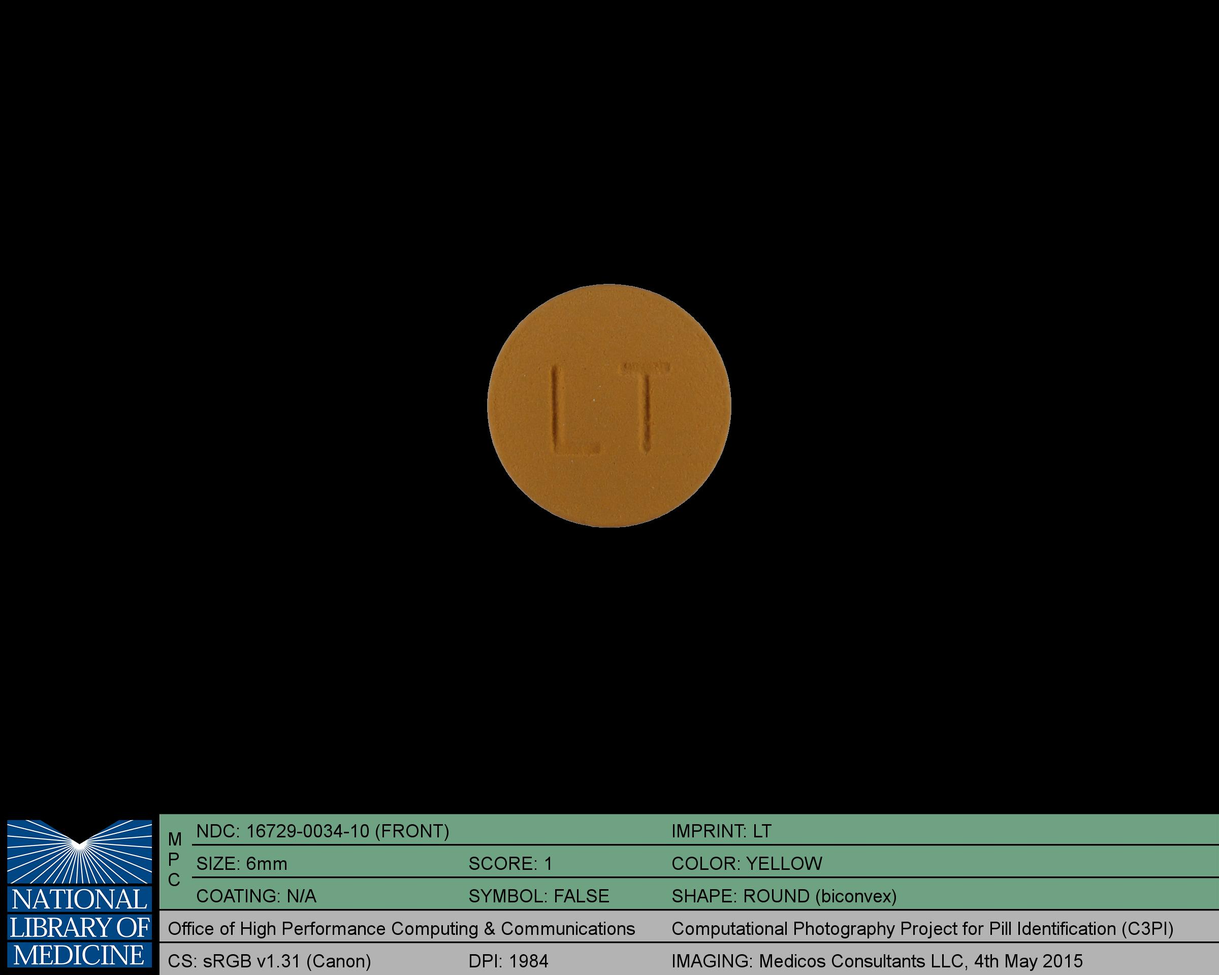Pill: (476, 273, 743, 538)
